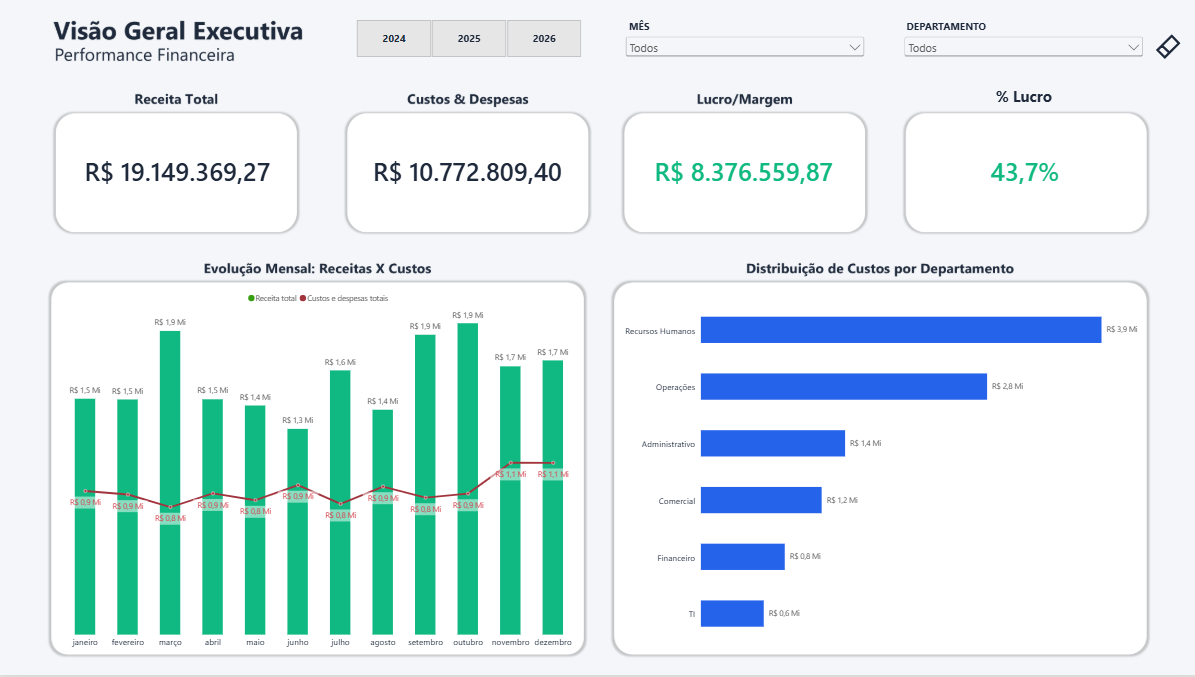

This screenshot's page, from the dashboard's own definition file:
{"tool":"powerbi","page":{"name":"VISÃO GERAL EXECUTIVA","canvas":[1920,1080],"ordinal":1},"visuals":[{"type":"cardVisual","fields":{"Data":["MEDIDAS.Receita total"]},"box":[89.1,177.6,391.4,190],"z":0},{"type":"cardVisual","fields":{"Data":["MEDIDAS.Custos e despesas totais"]},"box":[554.8,177.6,391.4,190],"z":1000},{"type":"cardVisual","fields":{"Data":["MEDIDAS.Lucro"]},"box":[996.7,178.3,391.4,190],"z":2000},{"type":"cardVisual","fields":{"Data":["MEDIDAS.% Lucro"]},"box":[1446.7,178.3,391.4,190],"z":3000},{"type":"lineStackedColumnComboChart","fields":{"Category":["dCalendario.AnoMes.Variation.Hierarquia de datas.Mês"],"Y":["MEDIDAS.Receita total"],"Y2":["MEDIDAS.Custos e despesas totais"]},"box":[77,447,869,610],"z":4000},{"type":"barChart","fields":{"Category":["dCentroCusto.Departamento"],"Y":["MEDIDAS.Custos e despesas totais"]},"box":[978.6,447.1,860,610],"z":5000},{"type":"slicer","fields":{"Values":["dCalendario.Ano"]},"box":[552.9,30,398.6,62.9],"z":6000},{"type":"slicer","fields":{"Values":["dCalendario.AnoMes.Variation.Hierarquia de datas.Mês"]},"box":[998.1,54.3,391,43],"z":7000},{"type":"textbox","box":[1007.3,30.3,381.4,44.3],"z":8000},{"type":"textbox","box":[1452,30,381.4,44.3],"z":9000},{"type":"slicer","fields":{"Values":["dCentroCusto.Departamento"]},"box":[1443.4,54.3,391,43],"z":10000},{"type":"actionButton","box":[1841.7,46.7,58.3,58.3],"z":11000},{"type":"textbox","box":[1444.3,138.6,391.4,34.3],"z":12000}]}

Visuals, with their boxes in screenshot pixels (x1, y1, x2, y2), scaled from the page's 1920x1080 canvas onto the 1195x677 screenshot:
cardVisual - MEDIDAS.Receita total: <bbox>55, 111, 299, 230</bbox>
cardVisual - MEDIDAS.Custos e despesas totais: <bbox>345, 111, 589, 230</bbox>
cardVisual - MEDIDAS.Lucro: <bbox>620, 112, 864, 231</bbox>
cardVisual - MEDIDAS.% Lucro: <bbox>900, 112, 1144, 231</bbox>
lineStackedColumnComboChart - dCalendario.AnoMes.Variation.Hierarquia de datas.Mês x MEDIDAS.Receita total: <bbox>48, 280, 589, 663</bbox>
barChart - dCentroCusto.Departamento x MEDIDAS.Custos e despesas totais: <bbox>609, 280, 1144, 663</bbox>
slicer - dCalendario.Ano: <bbox>344, 19, 592, 58</bbox>
slicer - dCalendario.AnoMes.Variation.Hierarquia de datas.Mês: <bbox>621, 34, 865, 61</bbox>
textbox: <bbox>627, 19, 864, 47</bbox>
textbox: <bbox>904, 19, 1141, 47</bbox>
slicer - dCentroCusto.Departamento: <bbox>898, 34, 1142, 61</bbox>
actionButton: <bbox>1146, 29, 1183, 66</bbox>
textbox: <bbox>899, 87, 1143, 108</bbox>
